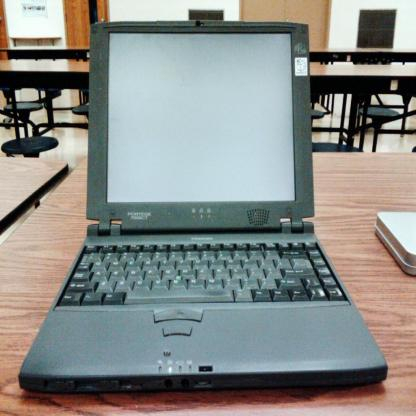board: (17, 15, 387, 393)
